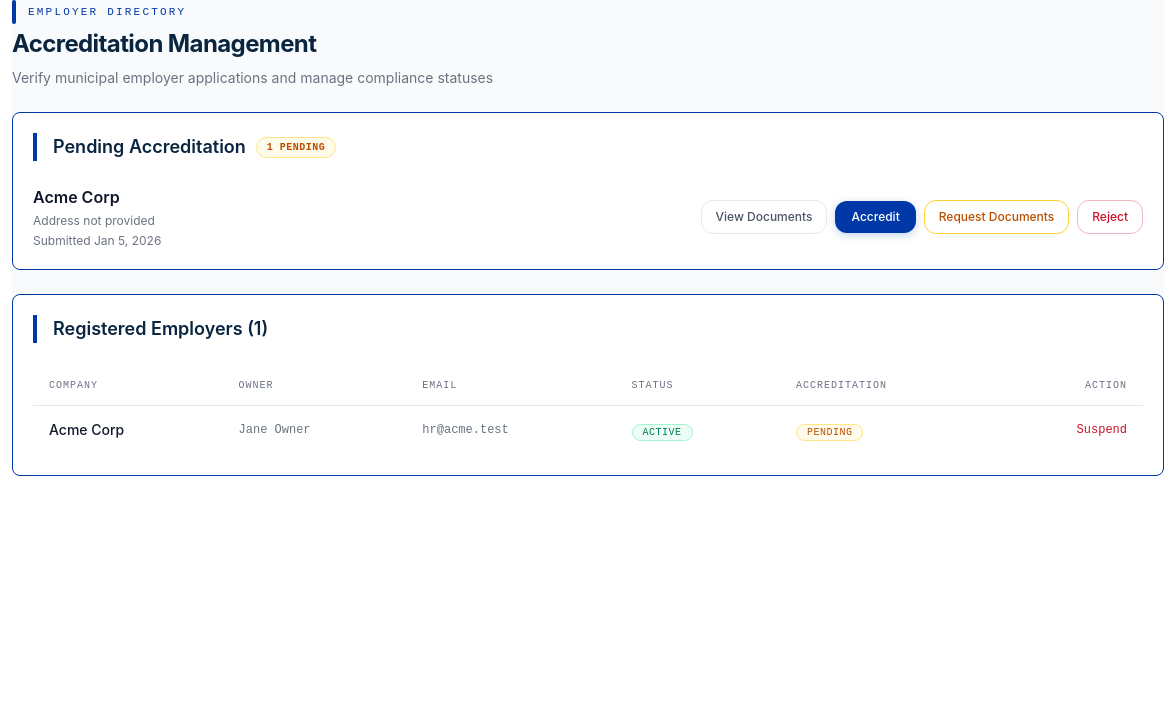
Test: Accreditation mutation error handling (S4) › surfaces the error banner when accrediting fails
This screenshot has width=1164, height=720.
Click the button "Accredit": (876, 217) [836,201,916,233]
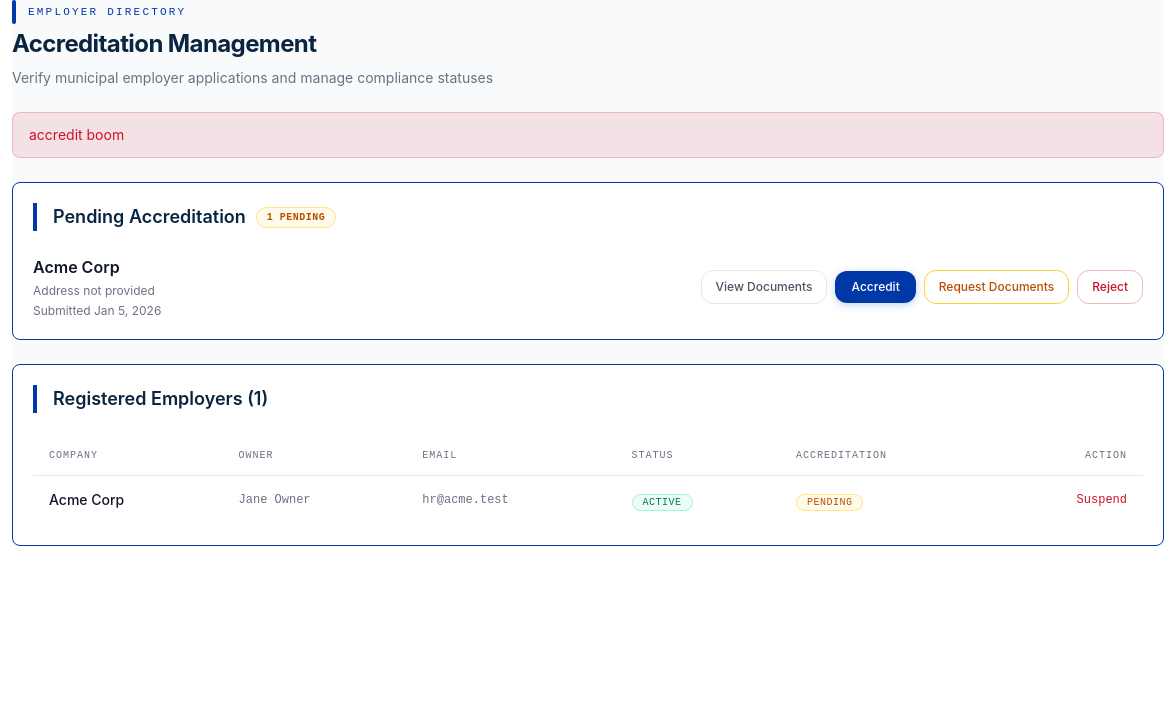
Expected: the button "Accredit" is shown, [836,271,916,303]
Expected: the message reads "accredit boom", [29,126,124,143]
